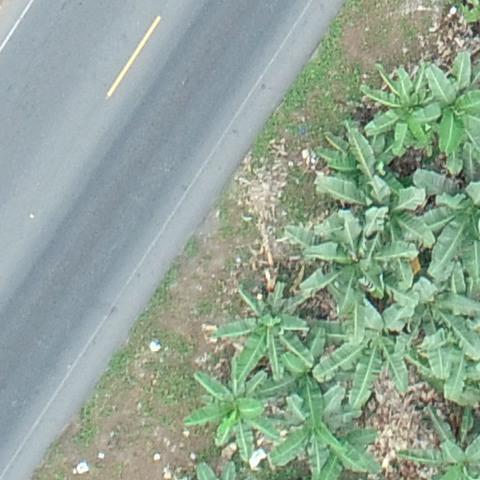Banana-plant: (326, 134, 439, 244), (292, 209, 411, 304), (316, 305, 420, 409), (186, 362, 293, 462), (268, 383, 384, 475), (220, 282, 317, 382), (352, 60, 440, 159), (417, 288, 480, 405), (418, 51, 480, 162), (415, 181, 480, 285), (400, 404, 480, 480)
